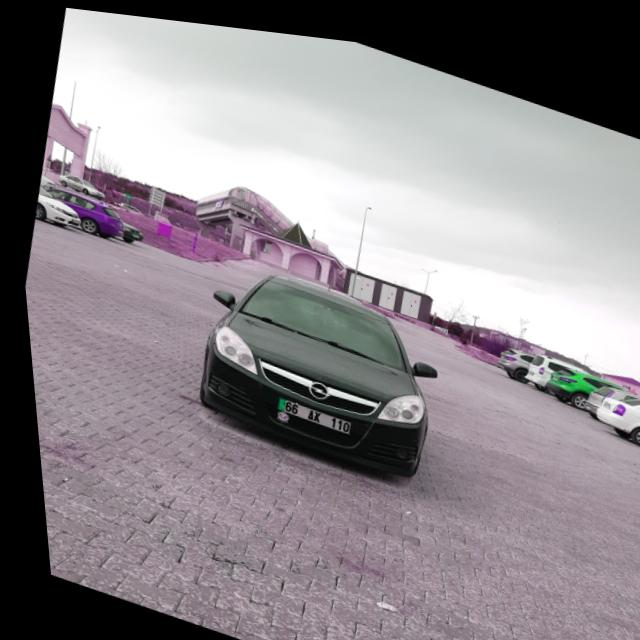license_plate: (269, 390, 345, 426)
